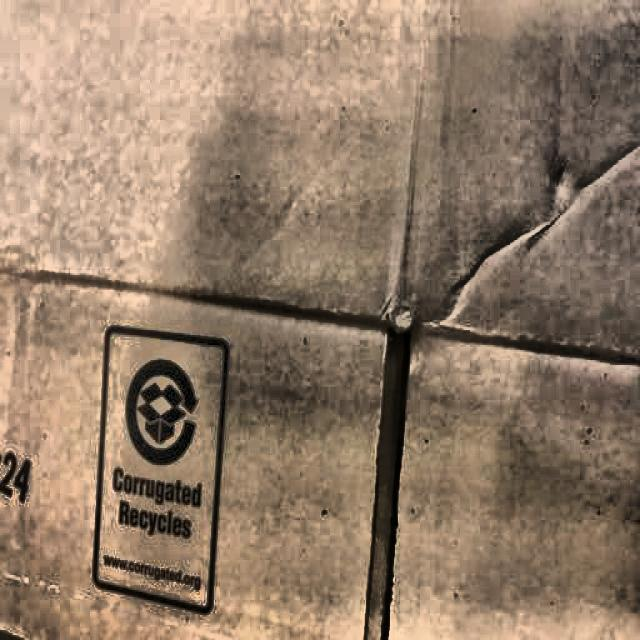cardboard: (15, 31, 536, 593)
